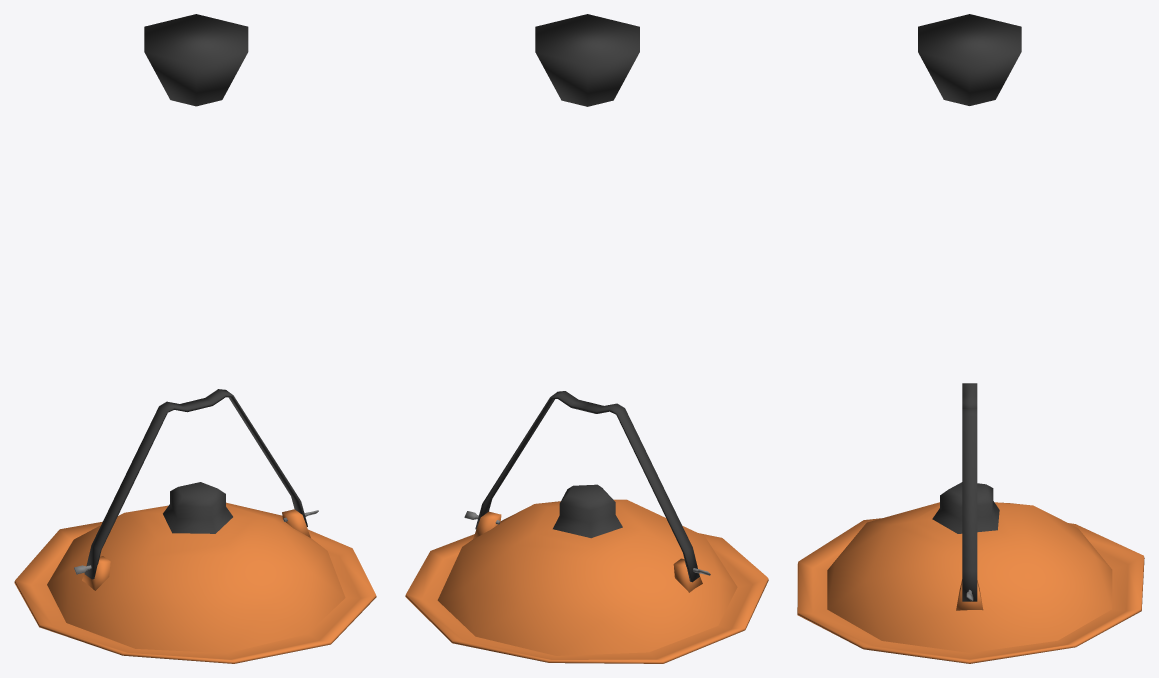
File: LightHanging.fbx
3 views of the same model, side by side, from view 1: azimuth 30°, elevation 25°; view 2: azimuth 150°, elevation 25°; view 3: azimuth 270°, elevation 25° (orthographic).
Visible parts, largest first — view 1: Prop.LightHanging, Prop.LightHanging.Base; view 2: Prop.LightHanging, Prop.LightHanging.Base; view 3: Prop.LightHanging, Prop.LightHanging.Base.
Boxes of the visible parts, x1=… form: Prop.LightHanging: x1=14, y1=389, x2=376, y2=663; Prop.LightHanging.Base: x1=144, y1=14, x2=248, y2=106; Prop.LightHanging: x1=405, y1=391, x2=768, y2=663; Prop.LightHanging.Base: x1=535, y1=14, x2=639, y2=106; Prop.LightHanging: x1=797, y1=383, x2=1144, y2=663; Prop.LightHanging.Base: x1=918, y1=14, x2=1021, y2=105.
Size of the model in its own units: 169 by 300 by 162.
